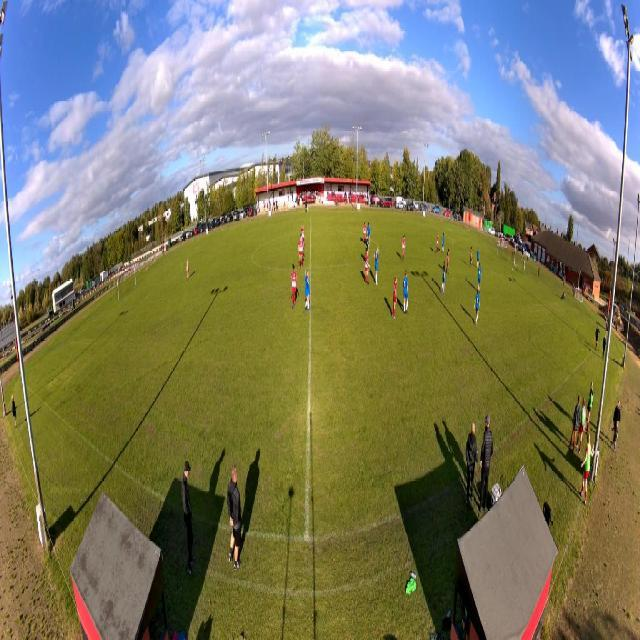ball: (512, 268, 513, 272)
player: (289, 262, 299, 310), (296, 234, 305, 269), (305, 267, 311, 314), (403, 268, 409, 315), (392, 274, 398, 320), (474, 288, 481, 327), (374, 247, 380, 287), (365, 248, 371, 286), (441, 259, 446, 295), (301, 224, 306, 252), (402, 233, 407, 261), (367, 222, 372, 249), (478, 262, 482, 294), (446, 248, 450, 276), (469, 245, 473, 271), (300, 233, 306, 249), (363, 220, 367, 244), (436, 232, 440, 256), (476, 246, 480, 270), (186, 258, 190, 280), (365, 234, 369, 255), (441, 233, 445, 254), (523, 258, 526, 276)
